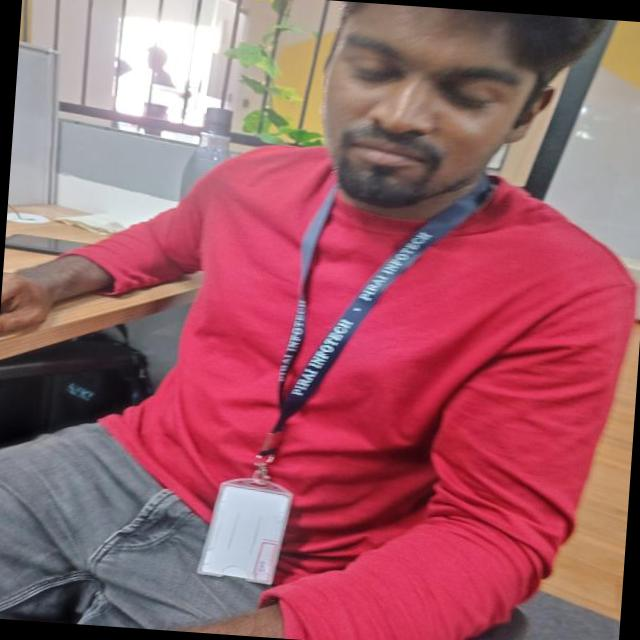id_card: (190, 150, 479, 596)
